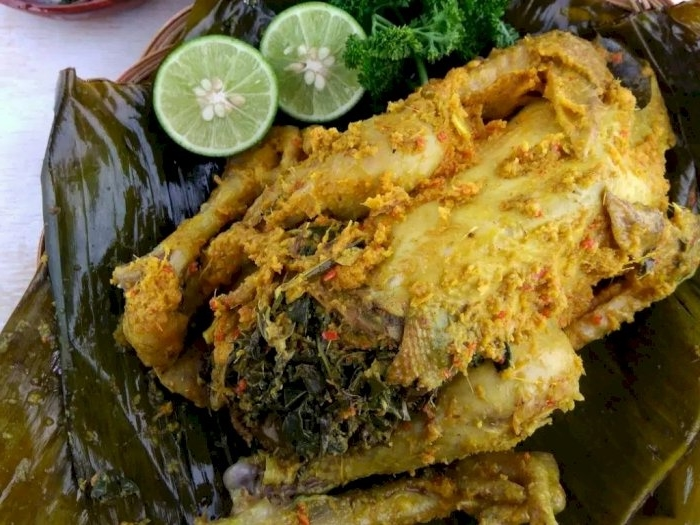ayam_betutu: (112, 32, 700, 525)
